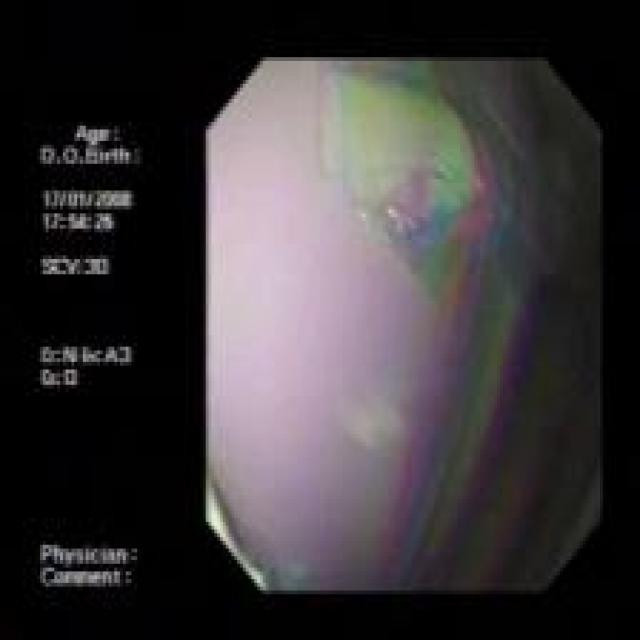color misalignment: (205, 57, 601, 592), (379, 283, 602, 593), (38, 118, 147, 591), (321, 66, 519, 304)
